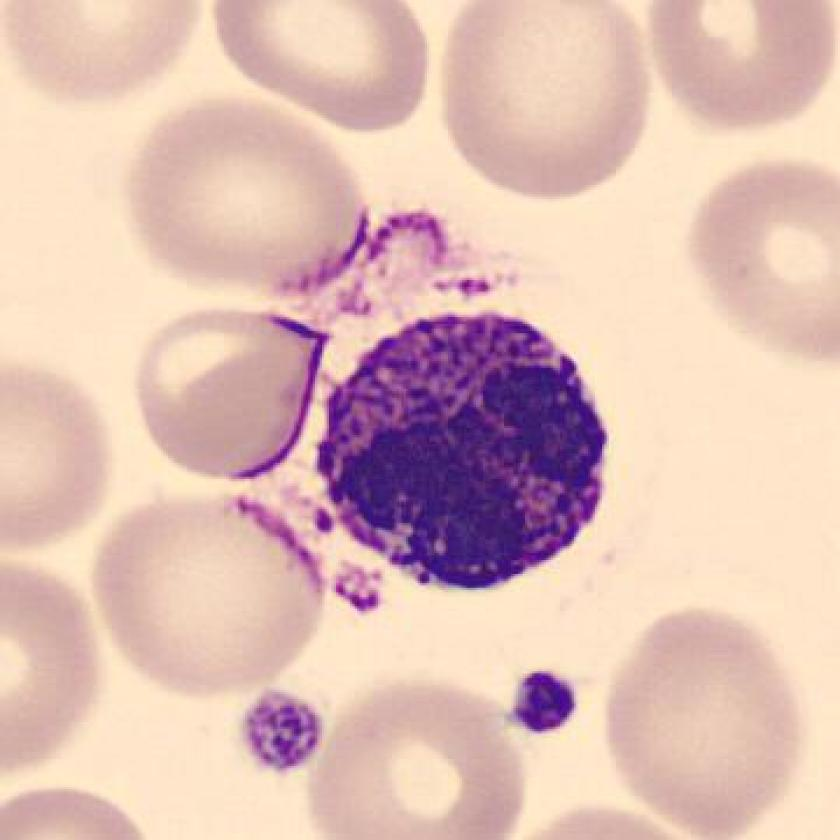basophil: (267, 279, 638, 610)
